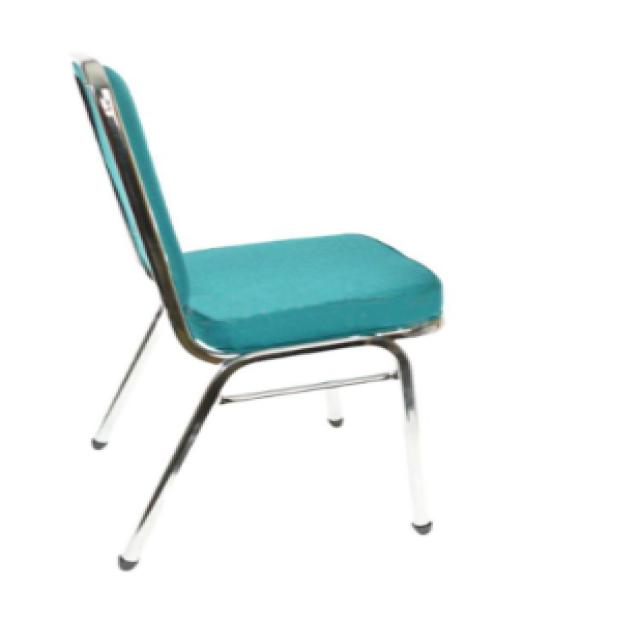chair: (71, 53, 448, 574)
